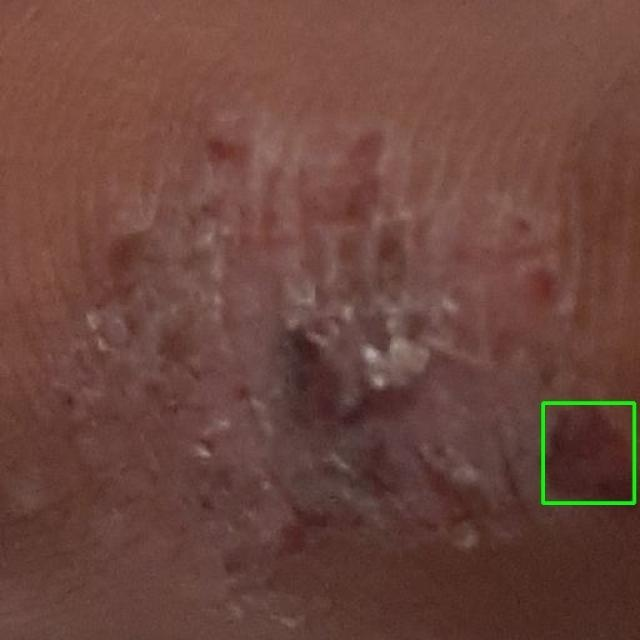Contact Dermatitis: (542, 402, 634, 502)
